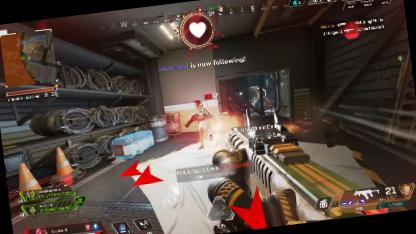Target: (187, 100, 208, 146)
